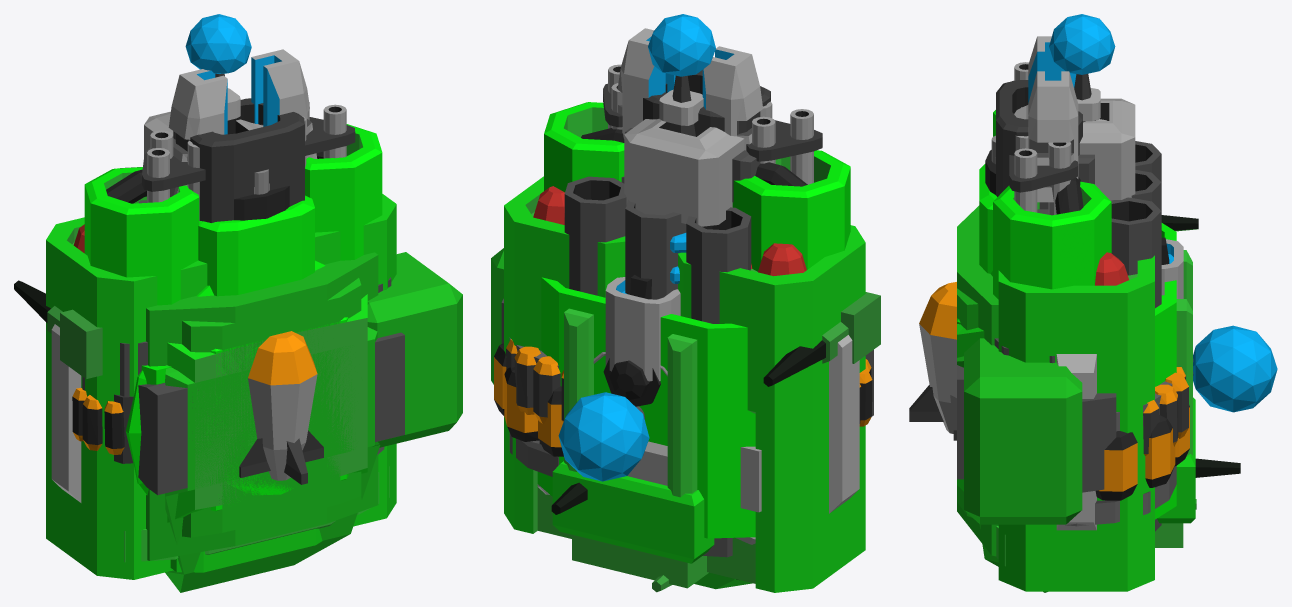
Rendered from Cannons.FBX.
3 views of the same model, side by side, from view 1: azimuth 30°, elevation 25°; view 2: azimuth 150°, elevation 25°; view 3: azimuth 270°, elevation 25° (orthographic). The views are drawn at different scales.
Visible parts, largest first — view 1: 11, 8, 2, 9, 1, 6, 4, 3, bomb, 7, 10, 15 (+3 smaller); view 2: 11, 10, 5, 9, 14, 13, 15, 12, 7, 4, 6, 8 (+2 smaller); view 3: 11, 6, 10, 9, 4, 12, 14, 15, 13, bomb, 8, 2 (+3 smaller).
Part boxes in pixels (bbox=[...]): 11: bbox=[46, 194, 396, 579]; 8: bbox=[14, 252, 378, 560]; 2: bbox=[167, 98, 367, 522]; 9: bbox=[82, 124, 391, 562]; 1: bbox=[165, 327, 380, 592]; 6: bbox=[234, 169, 462, 447]; 4: bbox=[182, 183, 384, 537]; 3: bbox=[198, 195, 348, 511]; bomb: bbox=[239, 331, 323, 484]; 7: bbox=[72, 102, 355, 463]; 10: bbox=[120, 167, 404, 495]; 15: bbox=[168, 49, 317, 194]; 11: bbox=[504, 176, 865, 592]; 10: bbox=[537, 176, 873, 557]; 5: bbox=[537, 358, 755, 588]; 9: bbox=[530, 102, 850, 512]; 14: bbox=[581, 119, 807, 283]; 13: bbox=[605, 14, 715, 381]; 15: bbox=[617, 28, 762, 150]; 12: bbox=[558, 352, 667, 481]; 7: bbox=[603, 64, 872, 426]; 4: bbox=[494, 337, 563, 476]; 6: bbox=[491, 248, 563, 423]; 8: bbox=[630, 275, 880, 386]; 11: bbox=[998, 252, 1154, 591]; 6: bbox=[964, 135, 1188, 524]; 10: bbox=[957, 141, 1192, 531]; 9: bbox=[993, 110, 1111, 566]; 4: bbox=[957, 157, 1189, 526]; 12: bbox=[990, 271, 1277, 412]; 14: bbox=[1014, 98, 1135, 214]; 15: bbox=[1028, 36, 1078, 214]; 13: bbox=[1049, 14, 1183, 298]; bomb: bbox=[909, 282, 956, 440]; 8: bbox=[957, 205, 1198, 556]; 2: bbox=[957, 80, 1240, 491].
Bounding box in the file's own units: 146 × 215 × 131.
